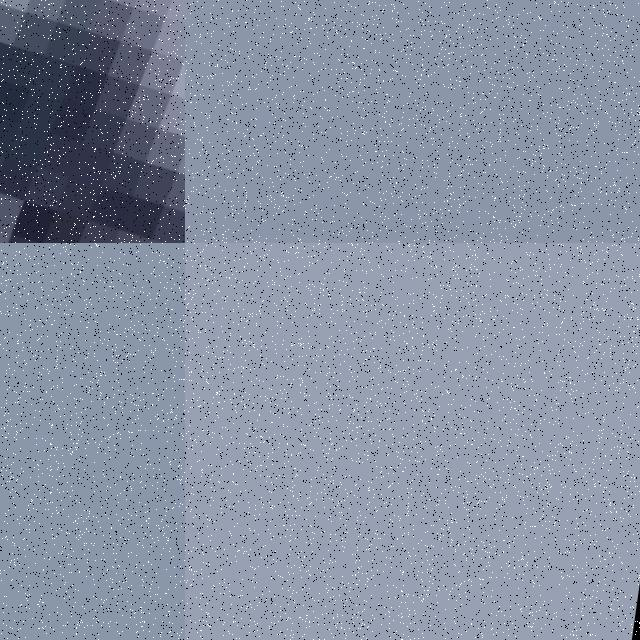drone: (0, 0, 185, 243)
